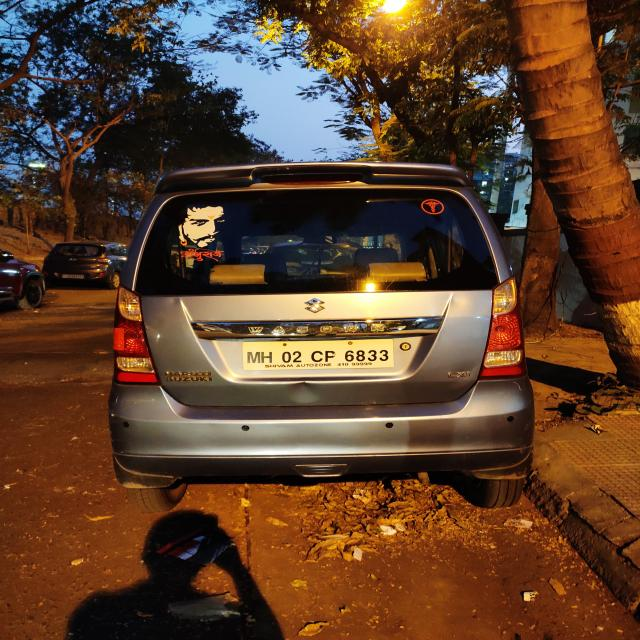Number-Plate: (242, 340, 395, 370)
